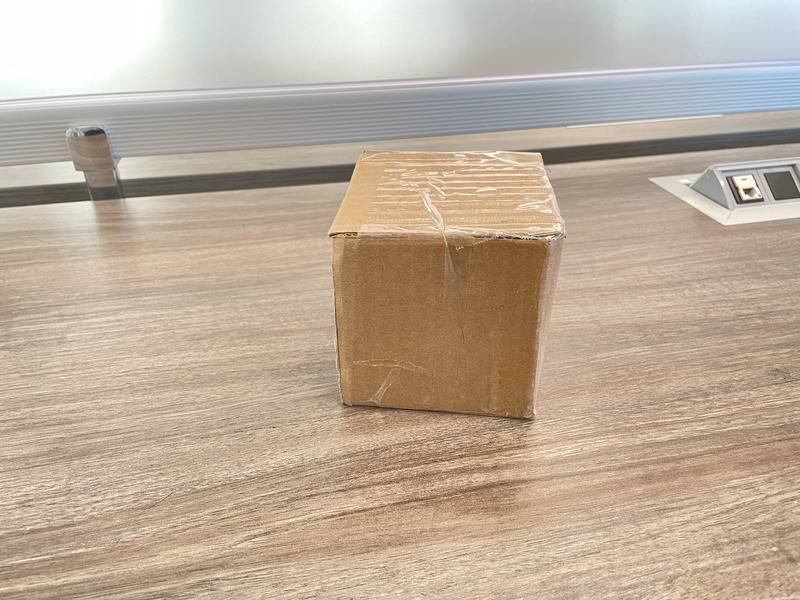payload3: (319, 143, 578, 437)
